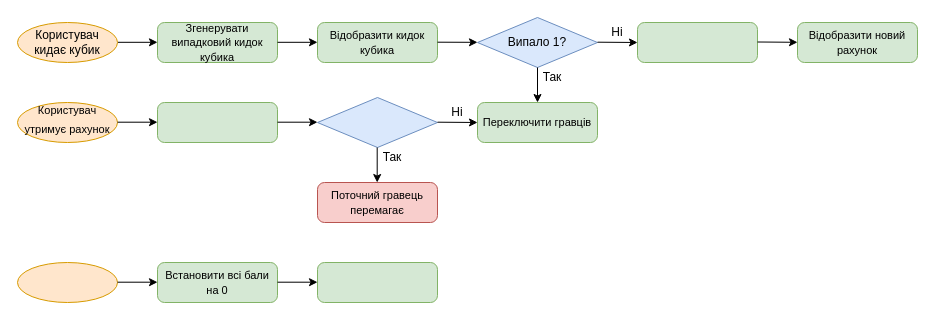
Image size: 935x320. Some labels were removed from this diagram. The box of each missing label's shape, as (x1, y1, x2, y2) in pixels:
Встановити гравця 1 як стартового гравця: (316, 262, 438, 302)
Додати кидок кубика до поточого рахунку: (636, 22, 758, 62)
Додати поточний рахунок до загального рахунку: (156, 102, 278, 142)
Користувач скидає гру: (16, 262, 118, 302)
Рахунок >= 100?: (316, 96, 438, 148)
